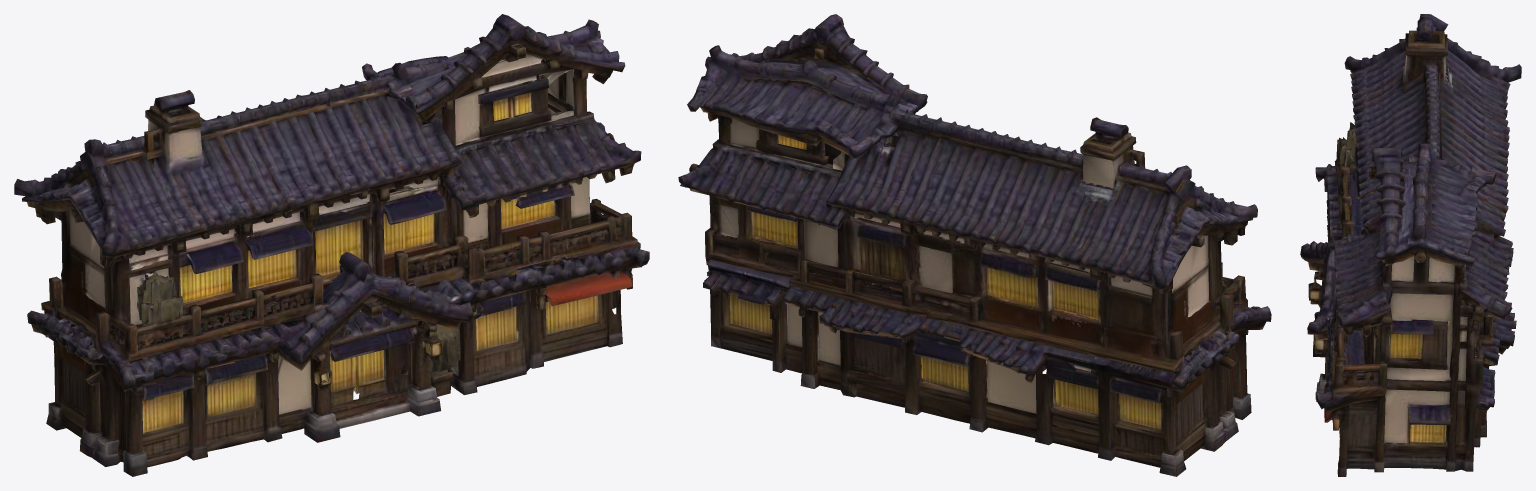
Rendered from candidate.glb.
3 renders of one model, left to right at view 1: azimuth 30°, elevation 25°; view 2: azimuth 150°, elevation 25°; view 3: azimuth 270°, elevation 25°, orthographic. The views are drawn at different scales.
Parts seen in each view (by area): view 1: compact__skyscraper_2__native_mobile; view 2: compact__skyscraper_2__native_mobile; view 3: compact__skyscraper_2__native_mobile.
Boxes of the visible parts, bbox=[...] form: compact__skyscraper_2__native_mobile: bbox=[14, 14, 649, 476]; compact__skyscraper_2__native_mobile: bbox=[678, 14, 1271, 476]; compact__skyscraper_2__native_mobile: bbox=[1300, 14, 1521, 476].
Bounding box in the file's own units: 1 × 0.6054 × 0.3977.
Materials: 1 (1 with a texture image).
